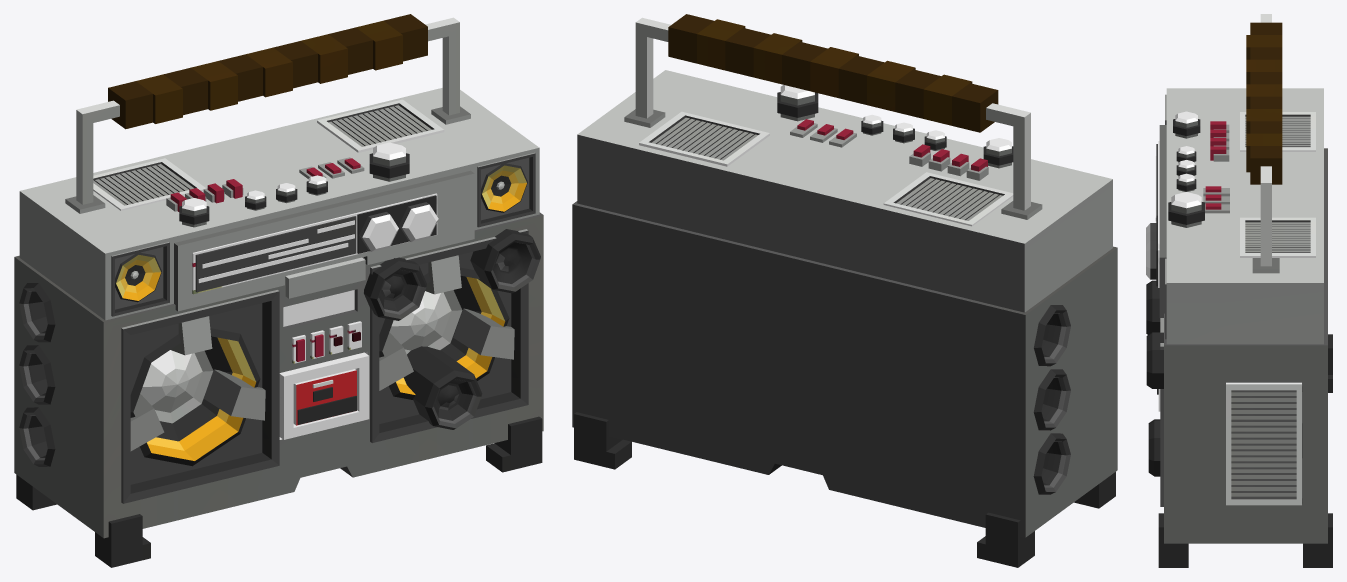
The model's file is HOME THEATHER.gltf.
3 views of the same model, side by side, from view 1: azimuth 30°, elevation 25°; view 2: azimuth 150°, elevation 25°; view 3: azimuth 270°, elevation 25° (orthographic). The views are drawn at different scales.
Visible parts, largest first — view 1: polySurface697_lambert2_0; view 2: polySurface697_lambert2_0; view 3: polySurface697_lambert2_0.
Boxes of the visible parts, x1,y1,x2,y2 form: polySurface697_lambert2_0: [14, 14, 543, 567]; polySurface697_lambert2_0: [572, 14, 1117, 567]; polySurface697_lambert2_0: [1146, 14, 1332, 567].
Size of the model in its own units: 3.7 by 3.27 by 1.45.
1 material, 1 textured.
